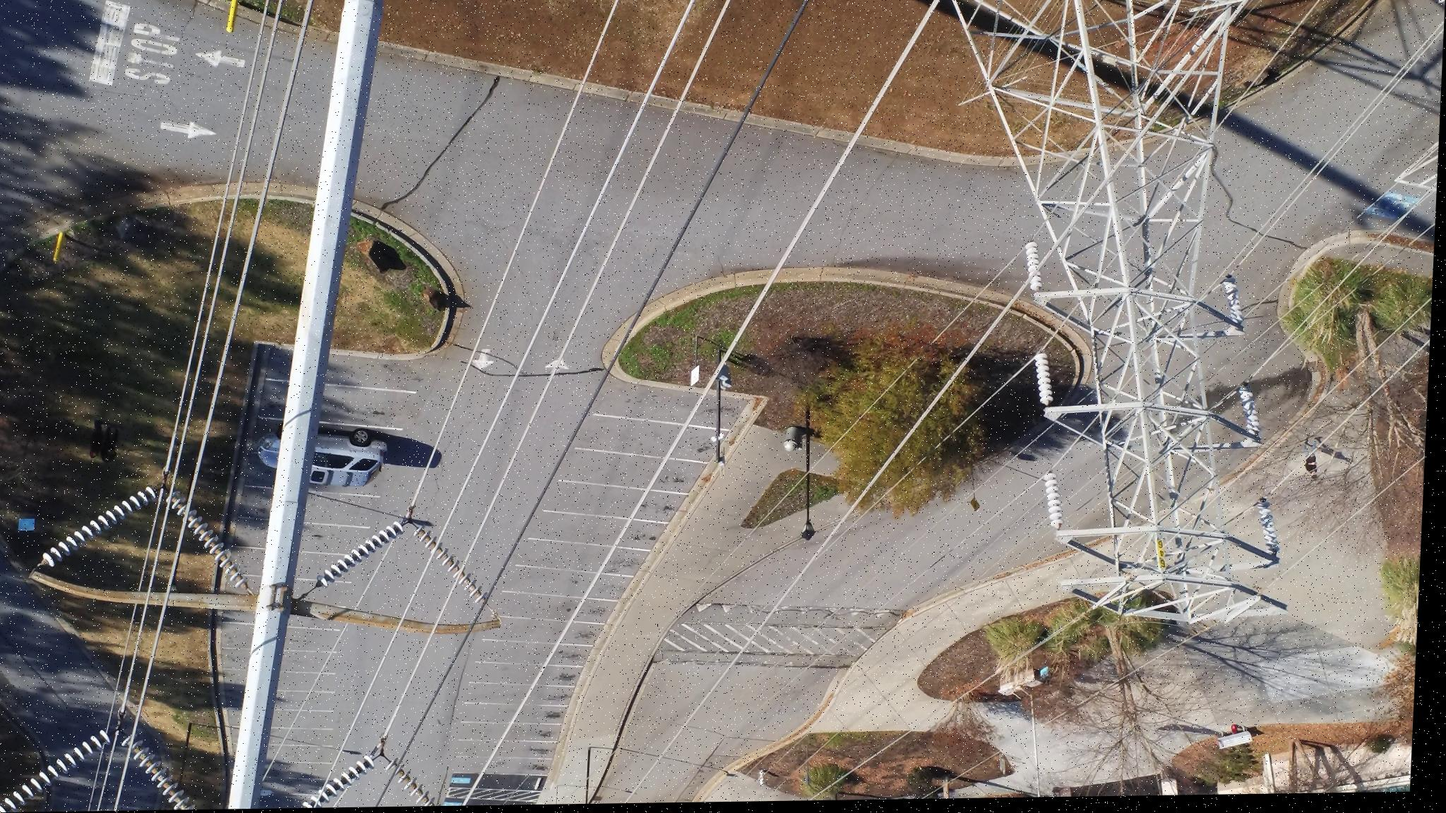tower: (910, 0, 1318, 628)
